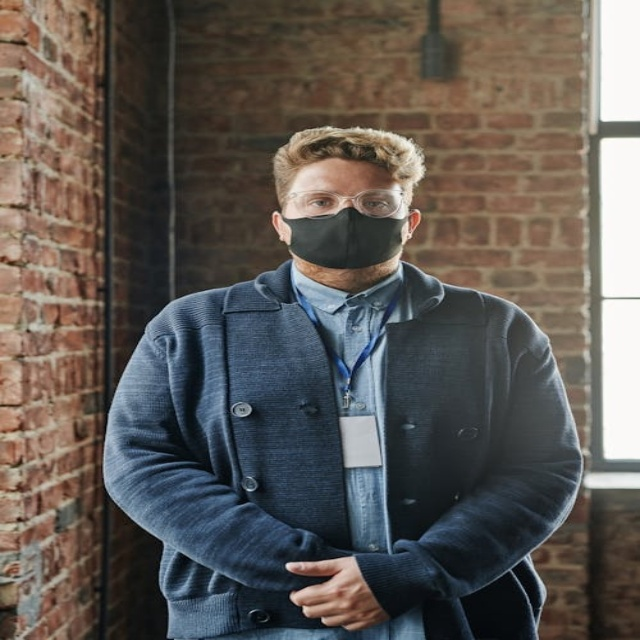Gafas: (282, 188, 410, 218)
Mascara: (280, 206, 409, 269)
Sin_guantes: (282, 555, 394, 631)
